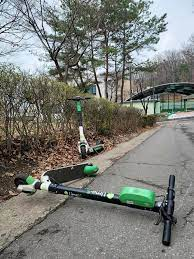fallin_kick: (13, 163, 175, 247)
kick_board: (69, 95, 106, 157)
kick_handler: (68, 95, 91, 101)
kick_neck: (77, 102, 83, 139)
kick_wheel: (78, 146, 88, 157)
